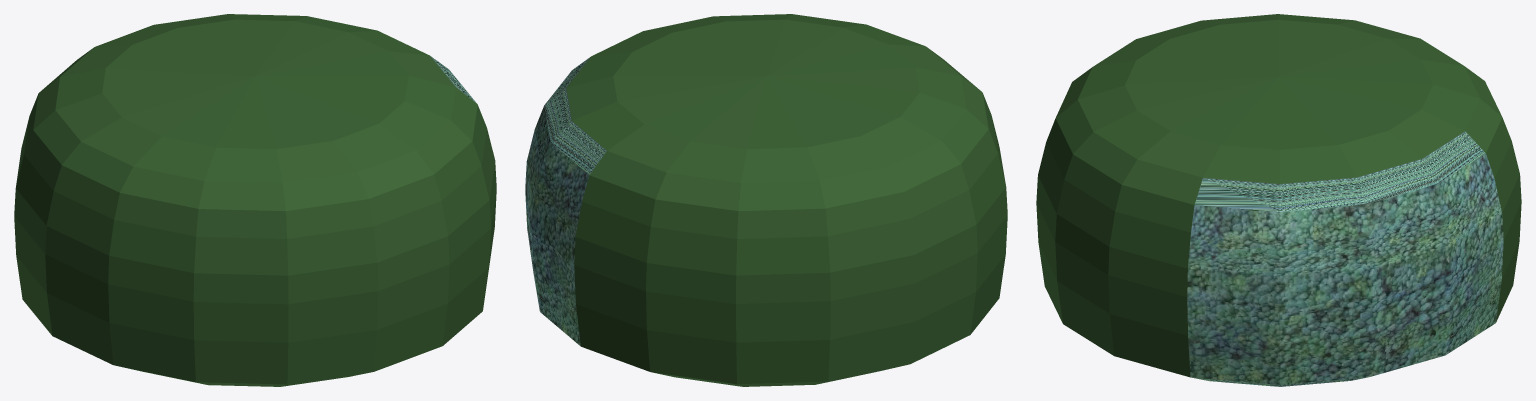
Rendered from Skybox.obj.
3 renders of one model, left to right at view 1: azimuth 30°, elevation 25°; view 2: azimuth 150°, elevation 25°; view 3: azimuth 270°, elevation 25°, orthographic.
Parts seen in each view (by area): view 1: Object_2; view 2: Object_2; view 3: Object_2.
Part boxes in pixels (<box>): Object_2: <box>14,14,496,386</box>; Object_2: <box>525,14,1007,386</box>; Object_2: <box>1036,14,1521,386</box>.
Size of the model in its own units: 351590 by 195564 by 351590.
